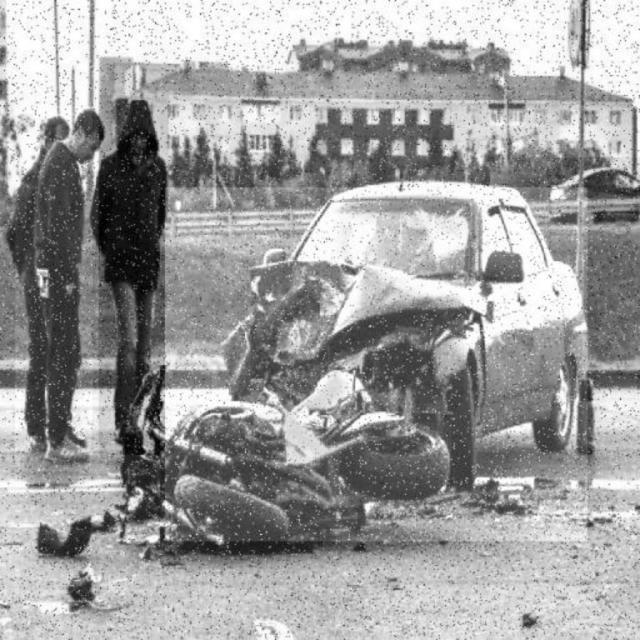accident: (165, 187, 587, 541)
person: (16, 106, 93, 471), (99, 95, 169, 455)
vehicle: (547, 158, 640, 214)
